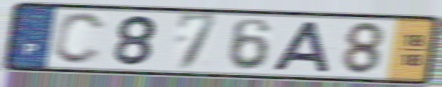6: (228, 17, 274, 73)
7: (171, 12, 219, 74)
8: (339, 21, 388, 77), (112, 14, 158, 68)
A: (269, 20, 333, 75)
C: (50, 11, 109, 68)
